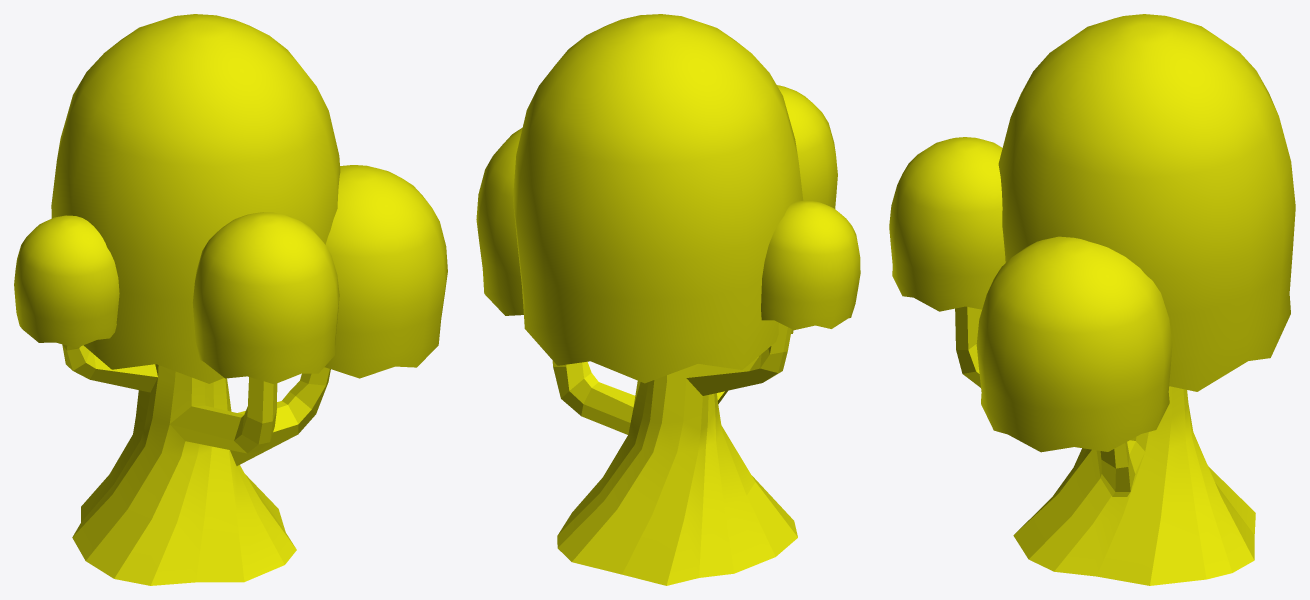
Rendered from Tree_4.glb.
The picture shows the model from 3 angles, left to right: view 1: azimuth 30°, elevation 25°; view 2: azimuth 150°, elevation 25°; view 3: azimuth 270°, elevation 25°; orthographic projection. The views are drawn at different scales.
Visible parts, largest first — view 1: polySurface714; view 2: polySurface714; view 3: polySurface714.
Part boxes in pixels (x1,y1,x2,y2): polySurface714: (14,14,447,585); polySurface714: (476,14,860,585); polySurface714: (889,14,1295,585).
Bounding box in the file's own units: 0.9541 × 1.18 × 0.8402.
Materials: 1 (1 with a texture image).
